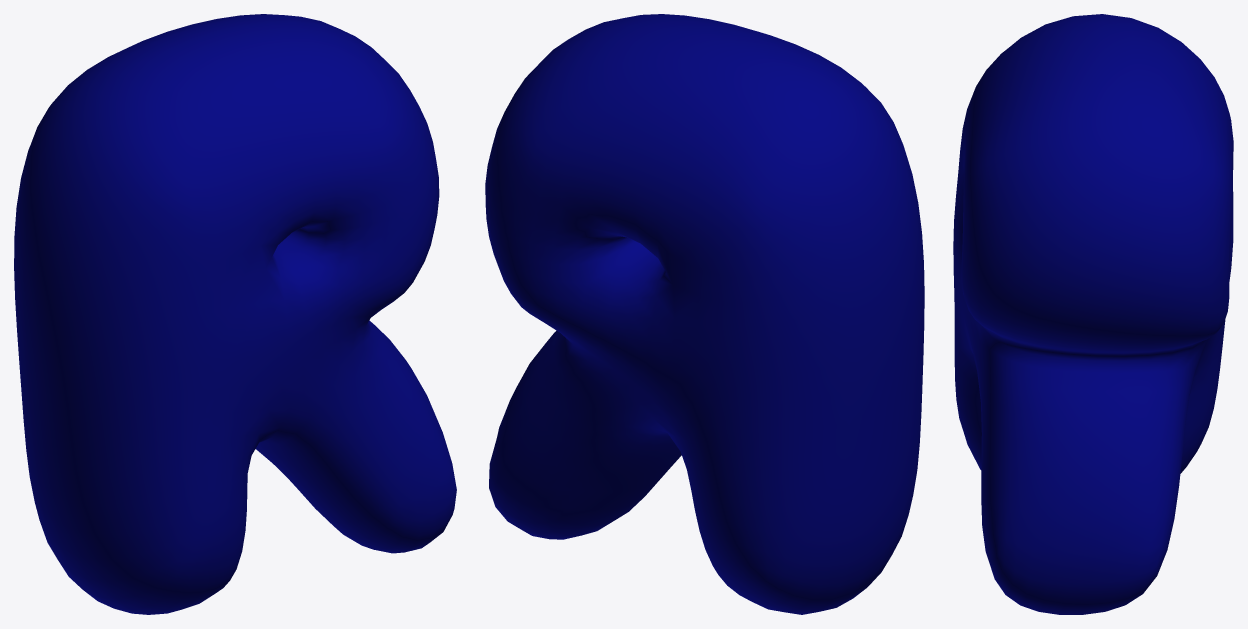
3 views of the same model, side by side, from view 1: azimuth 30°, elevation 25°; view 2: azimuth 150°, elevation 25°; view 3: azimuth 270°, elevation 25° (orthographic). The views are drawn at different scales.
Visible parts, largest first — view 1: Object_38; view 2: Object_38; view 3: Object_38.
Boxes of the visible parts, x1,y1,x2,y2 form: Object_38: [14, 14, 456, 614]; Object_38: [485, 14, 924, 614]; Object_38: [953, 14, 1233, 614].
Bounding box in the file's own units: 0.6643 × 0.8923 × 0.4465.
